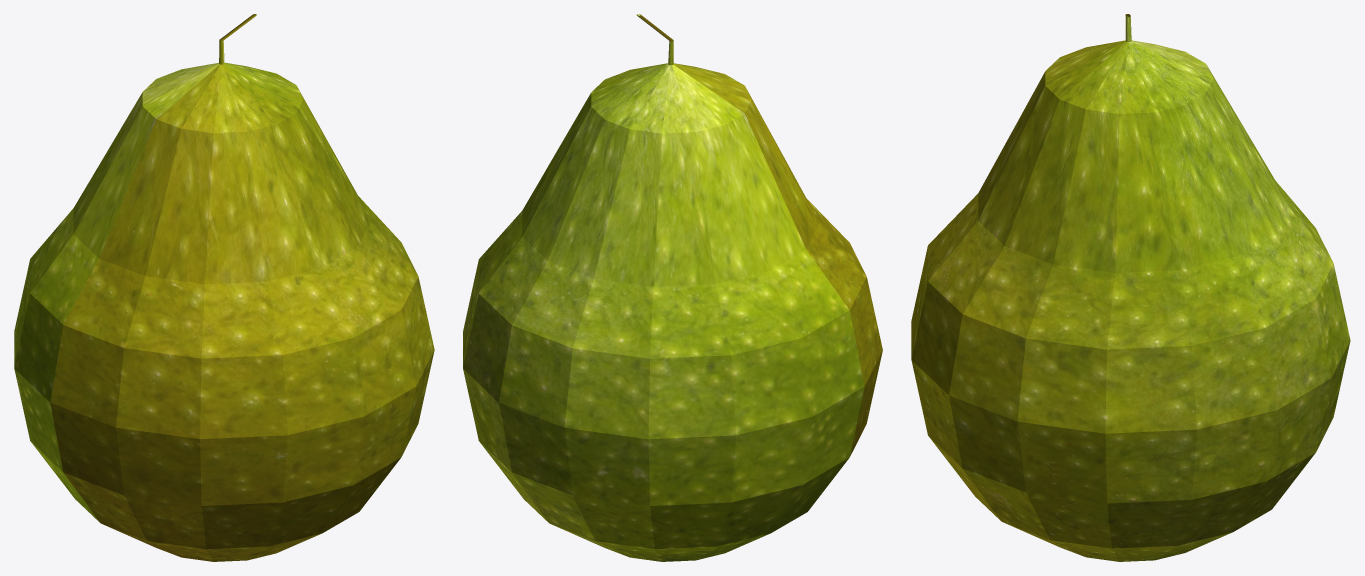
File: Grusha.fbx
3 renders of one model, left to right at view 1: azimuth 30°, elevation 25°; view 2: azimuth 150°, elevation 25°; view 3: azimuth 270°, elevation 25°, orthographic. The views are drawn at different scales.
Visible parts, largest first — view 1: Sphere; view 2: Sphere; view 3: Sphere.
Boxes of the visible parts, x1,y1,x2,y2 form: Sphere: (14,14,434,561); Sphere: (463,14,882,561); Sphere: (911,14,1350,561).
Bounding box in the file's own units: 149 × 197 × 148.
